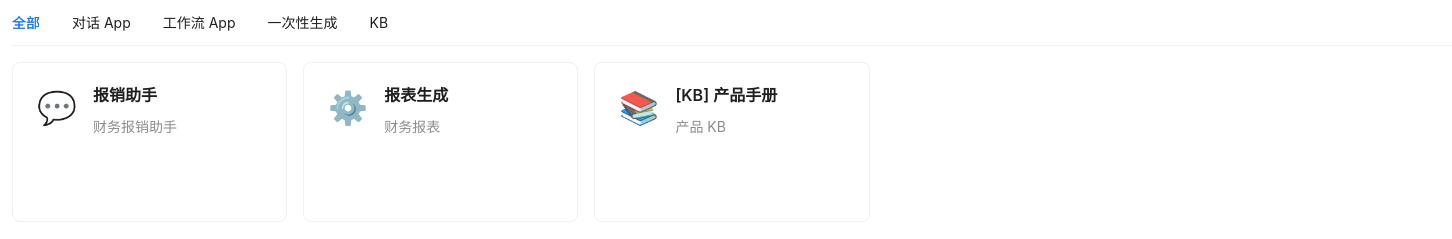
Scenario: <StaffHomePage> › 切到「KB」tab 只显示 [KB] 前缀
Expected: the text "[KB] 产品手册" is shown, x1=675 y1=85 x2=777 y2=105
Click the tab "KB" at (379, 23), box x1=370 y1=12 x2=388 y2=34
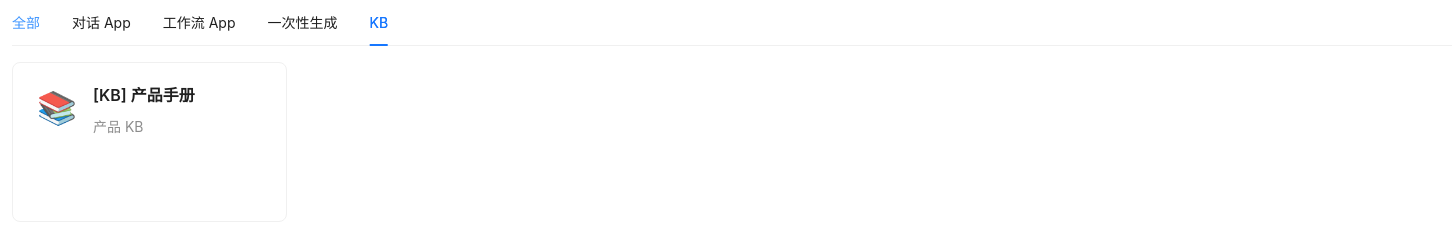
Expected: the text "[KB] 产品手册" is shown, x1=93 y1=85 x2=195 y2=105
Expected: the link "报表生成" is gone
